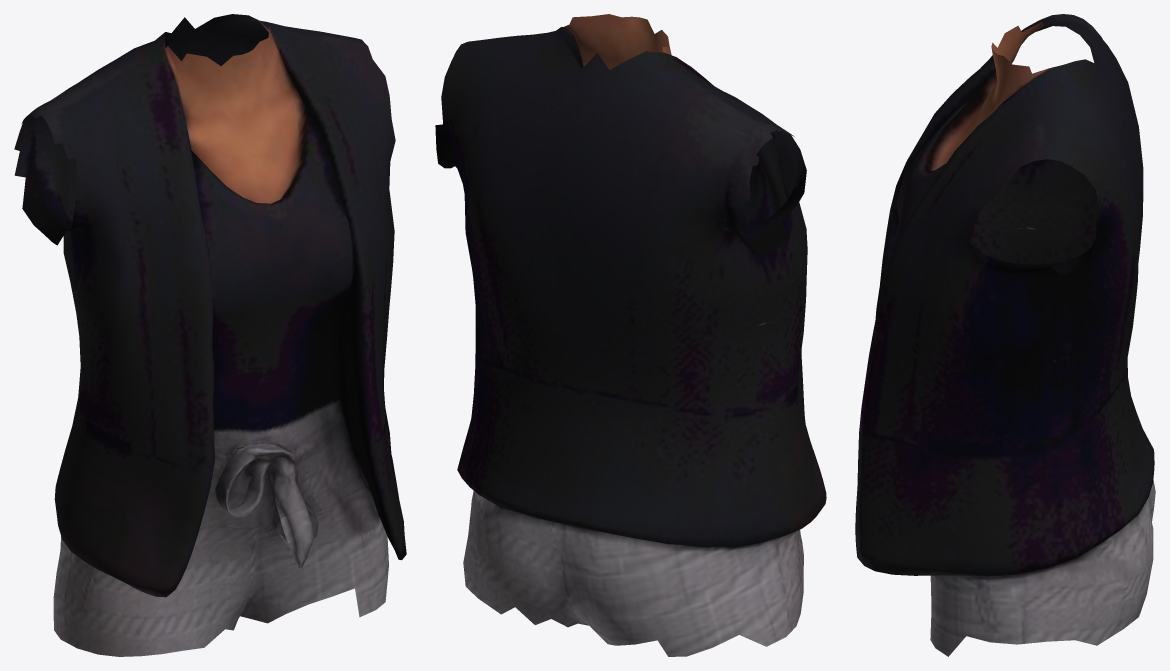
Rendered from ProfesorTorso.obj.
The picture shows the model from 3 angles, left to right: view 1: azimuth 30°, elevation 25°; view 2: azimuth 150°, elevation 25°; view 3: azimuth 270°, elevation 25°; orthographic projection. The views are drawn at different scales.
Visible parts, largest first — view 1: ProfesorTorso; view 2: ProfesorTorso; view 3: ProfesorTorso.
Part boxes in pixels (x1,y1,x2,y2): ProfesorTorso: [14, 14, 406, 656]; ProfesorTorso: [435, 14, 826, 656]; ProfesorTorso: [855, 14, 1155, 656].
Bounding box in the file's own units: 37.62 × 63.43 × 31.08.
Materials: 1 (1 with a texture image).
